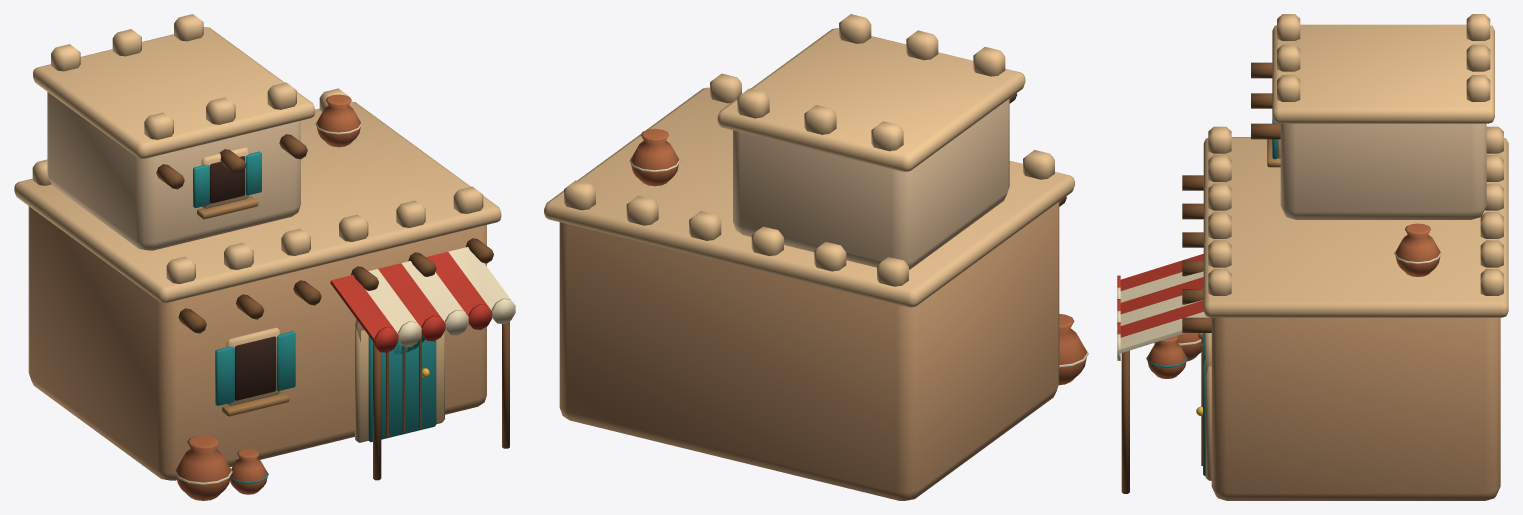
File: desert_house.glb
3 views of the same model, side by side, from view 1: azimuth 30°, elevation 25°; view 2: azimuth 150°, elevation 25°; view 3: azimuth 270°, elevation 25° (orthographic). The views are drawn at different scales.
Visible parts, largest first — view 1: D_House__D_s2, D_House__D_adobe, D_House__D_adobe2, D_House__D_teal, D_House__D_wood, D_House__D_red, D_House__D_cream, D_House__D_clay, D_House__D_dark, D_House__D_woodl; view 2: D_House__D_adobe, D_House__D_s2, D_House__D_adobe2, D_House__D_clay; view 3: D_House__D_s2, D_House__D_adobe, D_House__D_adobe2, D_House__D_wood, D_House__D_clay, D_House__D_cream, D_House__D_red, D_House__D_teal.
Part boxes in pixels (box(x1,y1,x2,y2)): D_House__D_s2: box(14, 14, 501, 442); D_House__D_adobe: box(28, 206, 486, 480); D_House__D_adobe2: box(47, 92, 300, 250); D_House__D_teal: box(193, 151, 436, 483); D_House__D_wood: box(156, 134, 509, 480); D_House__D_red: box(330, 252, 491, 352); D_House__D_cream: box(174, 119, 515, 484); D_House__D_clay: box(175, 94, 360, 500); D_House__D_dark: box(210, 156, 275, 400); D_House__D_woodl: box(197, 196, 289, 416); D_House__D_adobe: box(559, 202, 1059, 500); D_House__D_s2: box(544, 14, 1074, 307); D_House__D_adobe2: box(733, 98, 1009, 269); D_House__D_clay: box(630, 128, 1087, 385); D_House__D_s2: box(1203, 14, 1508, 480); D_House__D_adobe: box(1211, 317, 1500, 500); D_House__D_adobe2: box(1280, 123, 1486, 219); D_House__D_wood: box(1121, 62, 1280, 493); D_House__D_clay: box(1147, 223, 1440, 378); D_House__D_cream: box(1117, 249, 1441, 360); D_House__D_red: box(1117, 254, 1203, 337); D_House__D_teal: box(1146, 118, 1277, 476).
Bounding box in the file's own units: 5.84 × 5.5 × 5.7.
